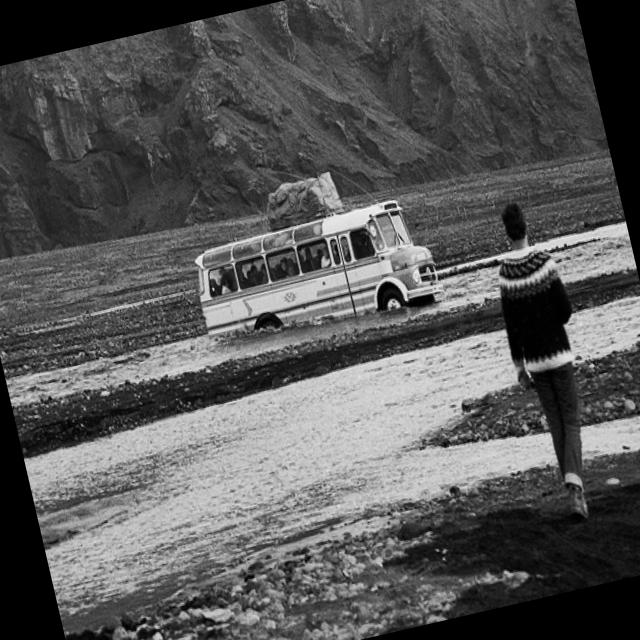Vehicle: (185, 188, 450, 362)
